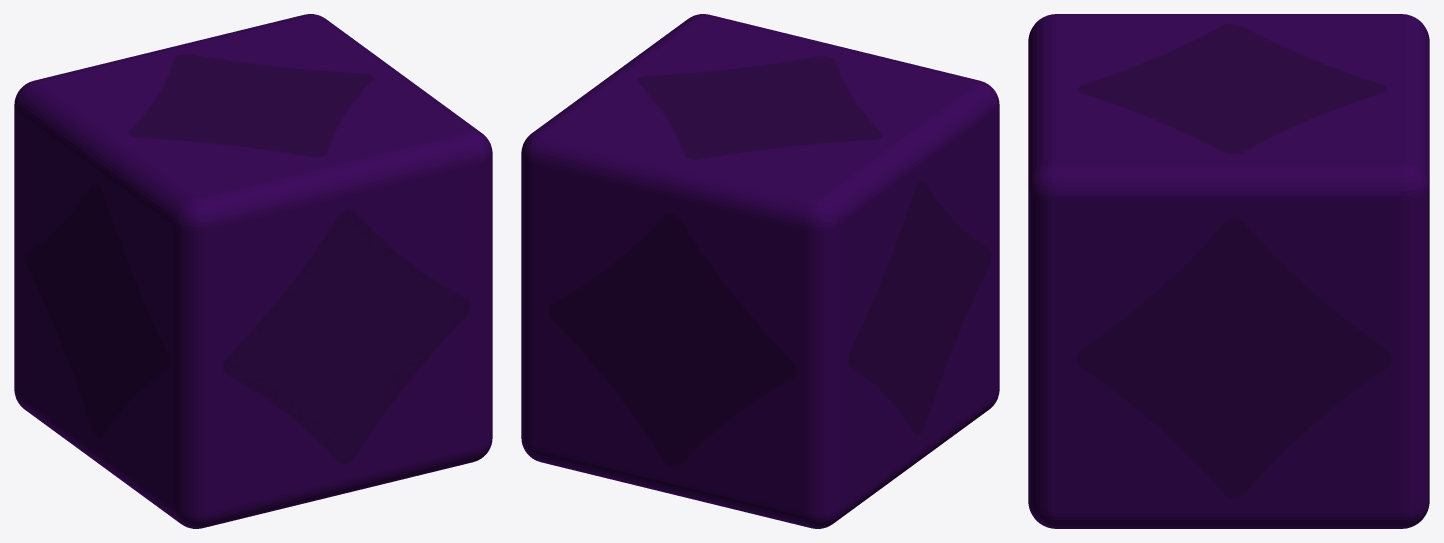
The model's file is Wall.fbx.
3 views of the same model, side by side, from view 1: azimuth 30°, elevation 25°; view 2: azimuth 150°, elevation 25°; view 3: azimuth 270°, elevation 25° (orthographic). The views are drawn at different scales.
Parts seen in each view (by area): view 1: Cube; view 2: Cube; view 3: Cube.
Part boxes in pixels (x1,y1,x2,y2): Cube: (14,14,492,528); Cube: (521,14,999,528); Cube: (1028,14,1429,528).
Size of the model in its own units: 400 by 400 by 400.
